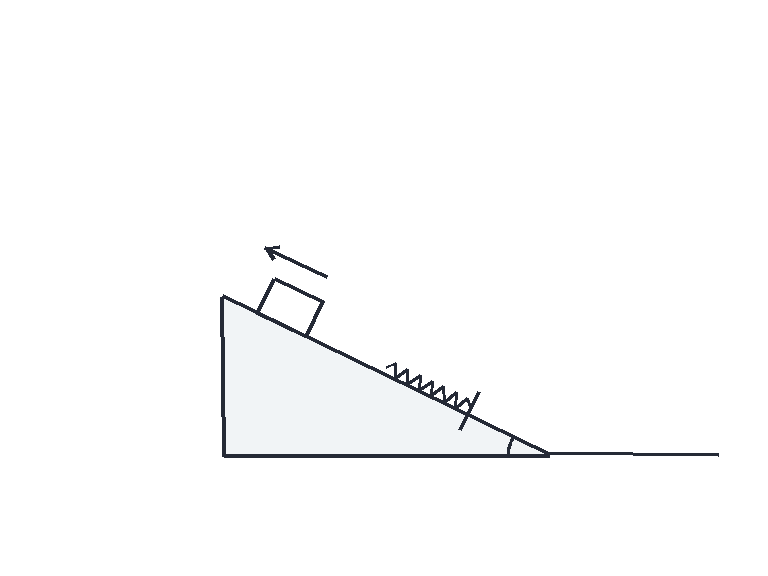block: (255, 276, 324, 339)
ramp: (221, 294, 550, 457)
spring: (384, 361, 473, 410)
